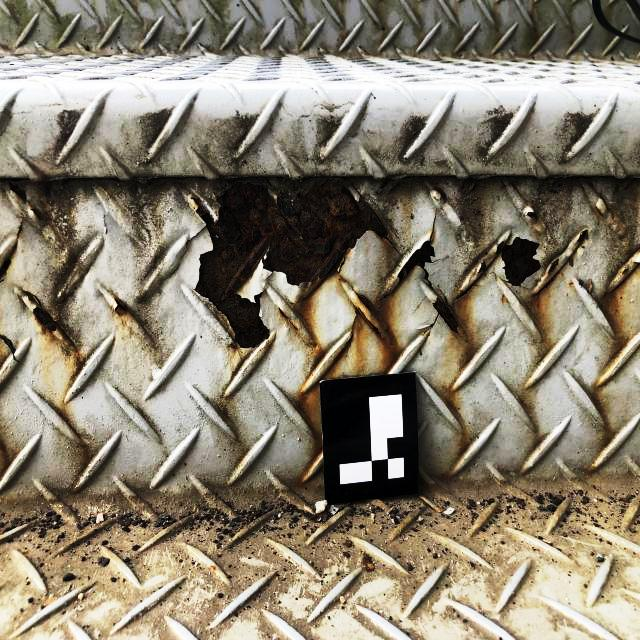Corrosion: (186, 177, 402, 352), (383, 209, 486, 337), (331, 303, 385, 367), (21, 289, 73, 344), (494, 236, 542, 290), (29, 178, 60, 239), (0, 220, 23, 289), (52, 257, 78, 308), (530, 271, 560, 309), (354, 289, 380, 324), (278, 303, 299, 333), (621, 245, 640, 277), (7, 181, 29, 204), (594, 194, 609, 223), (112, 297, 128, 317), (547, 257, 562, 276), (433, 187, 446, 202), (577, 229, 589, 245), (526, 208, 538, 222)
